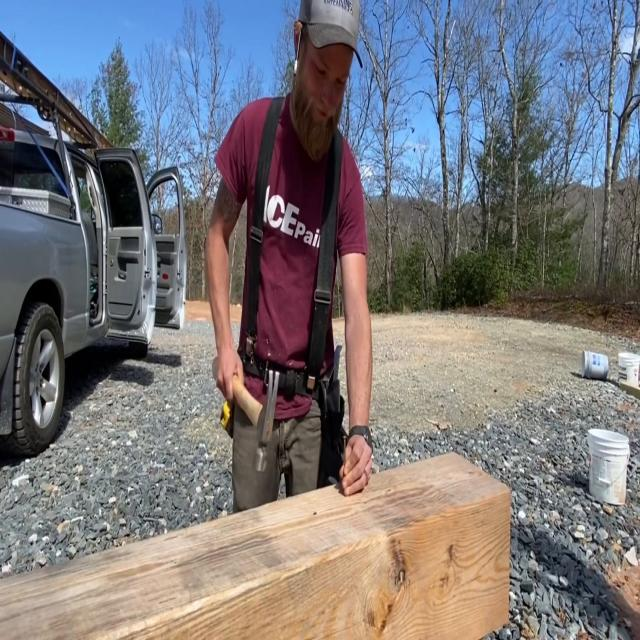hammer: (232, 371, 279, 475)
